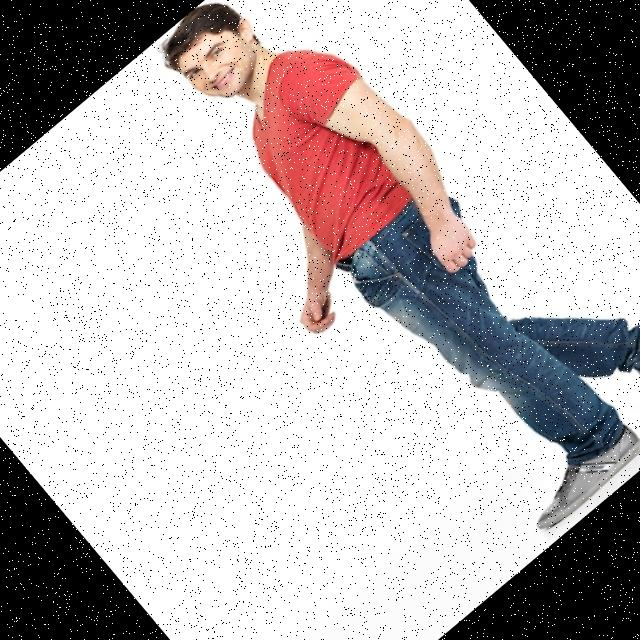Person: (102, 0, 640, 566)
